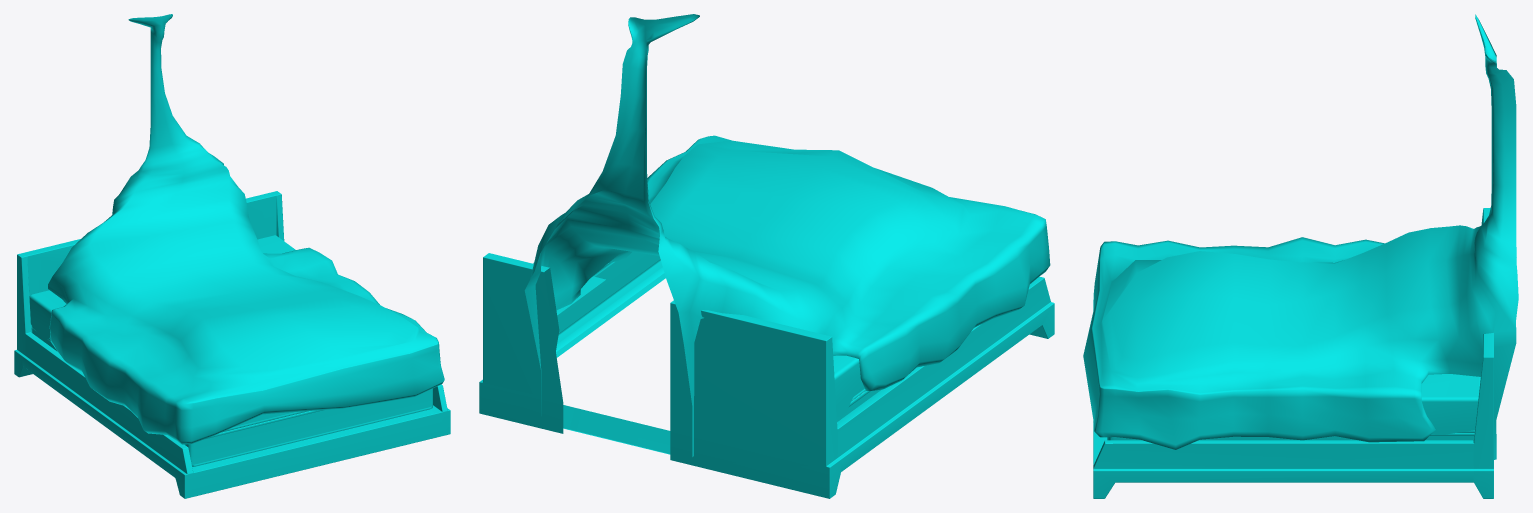
File: AntagBed.fbx
3 views of the same model, side by side, from view 1: azimuth 30°, elevation 25°; view 2: azimuth 150°, elevation 25°; view 3: azimuth 270°, elevation 25° (orthographic). The views are drawn at different scales.
Visible parts, largest first — view 1: AntagBed; view 2: AntagBed; view 3: AntagBed.
Part boxes in pixels (x1,y1,x2,y2): AntagBed: [14, 14, 450, 498]; AntagBed: [479, 14, 1054, 498]; AntagBed: [1083, 14, 1518, 498].
Bounding box in the file's own units: 262 × 300 × 301.
